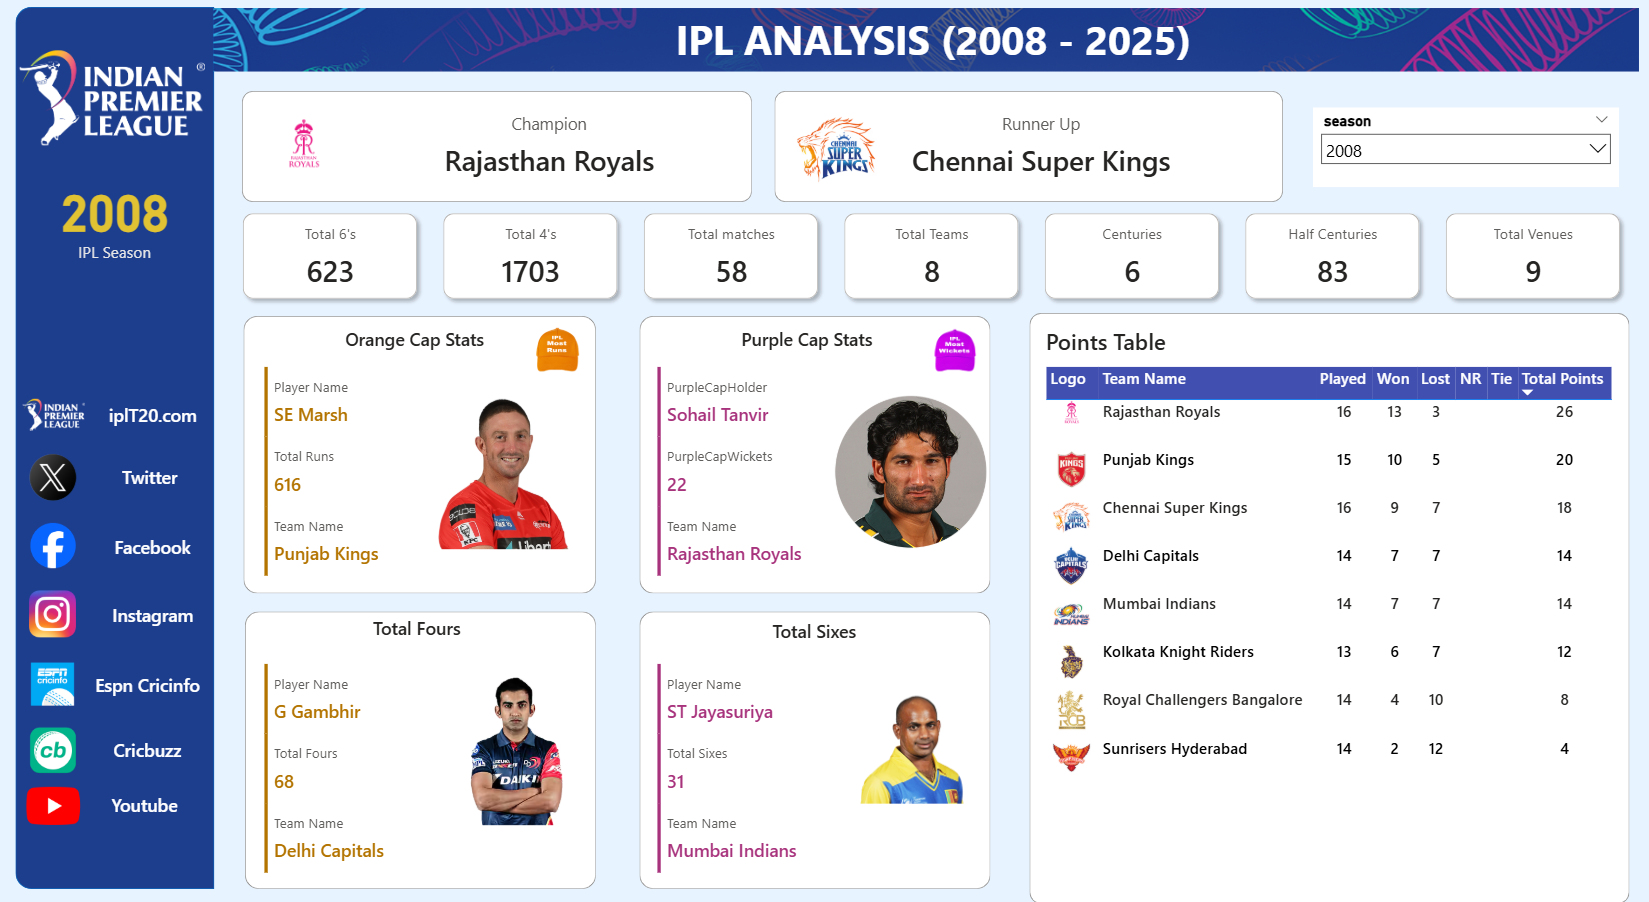

This screenshot's page, from the dashboard's own definition file:
{"tool":"powerbi","page":{"name":"Page 1","canvas":[2000,1100],"ordinal":0},"visuals":[{"type":"shape","box":[23.5,18.1,240,1064.6],"z":0},{"type":"shape","box":[1247.4,387.5,724.2,713.3],"z":2000},{"type":"shape","box":[300.5,747.7,423.7,334.9],"z":3000},{"type":"shape","box":[298.7,391.1,425.5,334.9],"z":4000},{"type":"shape","box":[939.7,119.5,613.8,134],"z":5000},{"type":"shape","box":[296.9,119.5,615.6,134],"z":6000},{"type":"image","box":[257.1,12.7,1730.9,90.5],"z":7000},{"type":"textbox","box":[776.7,18.1,709.7,85.1],"z":8000},{"type":"slicer","fields":{"Values":["ipl_matches_data.season"]},"box":[1589.6,139.4,369.3,96],"z":9000},{"type":"cardVisual","fields":{"Data":["ipl_matches_data.Season Winner"]},"box":[423.7,108.6,488.8,153.9],"z":10000},{"type":"cardVisual","fields":{"Data":["ipl_matches_data.Season Winner Logo"]},"box":[296.9,119.5,153.9,130.4],"z":11000},{"type":"cardVisual","fields":{"Data":["ipl_matches_data.Runner Up"]},"box":[1017.5,108.6,488.8,153.9],"z":12000},{"type":"cardVisual","fields":{"Data":["ipl_matches_data.Runner Up logo"]},"box":[939.7,119.5,153.9,130.4],"z":13000},{"type":"cardVisual","fields":{"Data":["ipl_matches_data.Total 6's","ipl_matches_data.Total 4's","ipl_matches_data.Total matches","ipl_matches_data.Total Teams","ipl_matches_data.Centuries","ipl_matches_data.Half Centuries","ipl_matches_data.Total Venues"]},"box":[280.6,249.9,1700.1,137.6],"z":14000},{"type":"cardVisual","fields":{"Data":["ipl_matches_data.Orange Cap Holder","ipl_matches_data.Orange Cap Runs","ipl_matches_data.Orange Cap Team Name"]},"box":[318.7,447.2,239,264.3],"z":15000},{"type":"textbox","box":[416.4,398.3,186.5,54.3],"z":16000},{"type":"cardVisual","fields":{"Data":["ipl_matches_data.Orange Cap Image"]},"box":[508.8,459.9,235.4,240.8],"z":17000},{"type":"image","box":[626.4,398.3,103.2,67],"z":18000},{"type":"shape","box":[776.7,391.1,423.7,334.9],"z":19000},{"type":"cardVisual","fields":{"Data":["ipl_matches_data.PurpleCapHolder","ipl_matches_data.PurpleCapWickets","ipl_matches_data.Team Name"]},"box":[793,447.2,239,264.3],"z":20000},{"type":"cardVisual","fields":{"Data":["ipl_matches_data.PurpleCapImage"]},"box":[988.5,459.9,235.4,240.8],"z":21000},{"type":"textbox","box":[894.4,398.3,186.5,54.3],"z":22000},{"type":"image","box":[1115.3,400.1,85.1,65.2],"z":23000},{"type":"cardVisual","fields":{"Data":["ipl_matches_data.Top Fours Player Name","ipl_matches_data.Top Fours Count","ipl_matches_data.Top Fours Player Team Name"]},"box":[318.7,805.7,239,264.3],"z":24000},{"type":"cardVisual","fields":{"Data":["ipl_matches_data.Top Fours Player Image"]},"box":[512.4,793,235.4,240.8],"z":25000},{"type":"textbox","box":[414.6,747.7,186.5,54.3],"z":26000},{"type":"shape","box":[776.7,747.7,423.7,334.9],"z":27000},{"type":"cardVisual","fields":{"Data":["ipl_matches_data.Top Sixes Player name","ipl_matches_data.Top Sixes Count","ipl_matches_data.Top Sixes Player Team Name"]},"box":[793,805.7,239,264.3],"z":28000},{"type":"cardVisual","fields":{"Data":["ipl_matches_data.Top Sixes Player Image"]},"box":[988.5,793,235.4,240.8],"z":29000},{"type":"textbox","box":[894.4,751.4,186.5,54.3],"z":30000},{"type":"tableEx","fields":{"Values":["teams_data.image_url","teams_data.team_name","ipl_matches_data.Matches Played","ipl_matches_data.Matches Won","ipl_matches_data.Matches Lost","ipl_matches_data.No Results Played","ipl_matches_data.Tie Matches","ipl_matches_data.Total Points"]},"box":[1261.9,447.2,697,653.6],"z":31000},{"type":"textbox","box":[1261.9,398.3,300.5,48.9],"z":32000},{"type":"card","fields":{"Values":["ipl_matches_data.IPL Season"]},"box":[32.6,184.7,220.9,173.8],"z":33000},{"type":"image","box":[18.1,34.4,239,186.5],"z":34000},{"type":"image","box":[25.3,461.7,86.9,97.8],"z":35000},{"type":"actionButton","box":[124.9,476.2,128.5,68.8],"z":35001},{"type":"image","box":[16.3,552.2,105,67],"z":35002},{"type":"actionButton","box":[121.3,550.4,128.5,68.8],"z":35003},{"type":"image","box":[23.5,635.5,90.5,65.2],"z":35004},{"type":"actionButton","box":[124.9,635.5,128.5,68.8],"z":35005},{"type":"image","box":[27.2,717,81.5,67],"z":35006},{"type":"actionButton","box":[124.9,717,128.5,68.8],"z":35007},{"type":"image","box":[10.9,802.1,114.1,67],"z":35008},{"type":"actionButton","box":[112.3,802.1,141.2,68.8],"z":35009},{"type":"image","box":[27.2,881.7,83.3,67],"z":35010},{"type":"actionButton","box":[112.3,879.9,141.2,68.8],"z":35011},{"type":"image","box":[30.8,948.7,76,67],"z":35012},{"type":"actionButton","box":[108.6,946.9,141.2,68.8],"z":35013}]}

Visuals, with their boxes in screenshot pixels (x1, y1, x2, y2), scaled from the page's 2000x1100 canvas onto the 1649x902 screenshot:
shape: detection(19, 15, 217, 888)
shape: detection(1028, 318, 1626, 901)
shape: detection(248, 613, 597, 888)
shape: detection(246, 321, 597, 595)
shape: detection(775, 98, 1281, 208)
shape: detection(245, 98, 752, 208)
image: detection(212, 10, 1639, 85)
textbox: detection(640, 15, 1226, 85)
slicer - ipl_matches_data.season: detection(1311, 114, 1615, 193)
cardVisual - ipl_matches_data.Season Winner: detection(349, 89, 752, 215)
cardVisual - ipl_matches_data.Season Winner Logo: detection(245, 98, 372, 205)
cardVisual - ipl_matches_data.Runner Up: detection(839, 89, 1242, 215)
cardVisual - ipl_matches_data.Runner Up logo: detection(775, 98, 902, 205)
cardVisual - ipl_matches_data.Total 6's x ipl_matches_data.Total 4's: detection(231, 205, 1633, 318)
cardVisual - ipl_matches_data.Orange Cap Holder x ipl_matches_data.Orange Cap Runs: detection(263, 367, 460, 583)
textbox: detection(343, 327, 497, 371)
cardVisual - ipl_matches_data.Orange Cap Image: detection(420, 377, 614, 575)
image: detection(516, 327, 602, 382)
shape: detection(640, 321, 990, 595)
cardVisual - ipl_matches_data.PurpleCapHolder x ipl_matches_data.PurpleCapWickets: detection(654, 367, 851, 583)
cardVisual - ipl_matches_data.PurpleCapImage: detection(815, 377, 1009, 575)
textbox: detection(737, 327, 891, 371)
image: detection(920, 328, 990, 382)
cardVisual - ipl_matches_data.Top Fours Player Name x ipl_matches_data.Top Fours Count: detection(263, 661, 460, 877)
cardVisual - ipl_matches_data.Top Fours Player Image: detection(422, 650, 617, 848)
textbox: detection(342, 613, 496, 658)
shape: detection(640, 613, 990, 888)
cardVisual - ipl_matches_data.Top Sixes Player name x ipl_matches_data.Top Sixes Count: detection(654, 661, 851, 877)
cardVisual - ipl_matches_data.Top Sixes Player Image: detection(815, 650, 1009, 848)
textbox: detection(737, 616, 891, 661)
tableEx - teams_data.image_url x teams_data.team_name: detection(1040, 367, 1615, 901)
textbox: detection(1040, 327, 1288, 367)
card - ipl_matches_data.IPL Season: detection(27, 151, 209, 294)
image: detection(15, 28, 212, 181)
image: detection(21, 379, 93, 459)
actionButton: detection(103, 390, 209, 447)
image: detection(13, 453, 100, 508)
actionButton: detection(100, 451, 206, 508)
image: detection(19, 521, 94, 575)
actionButton: detection(103, 521, 209, 578)
image: detection(22, 588, 90, 643)
actionButton: detection(103, 588, 209, 644)
image: detection(9, 658, 103, 713)
actionButton: detection(93, 658, 209, 714)
image: detection(22, 723, 91, 778)
actionButton: detection(93, 722, 209, 778)
image: detection(25, 778, 88, 833)
actionButton: detection(90, 776, 206, 833)
